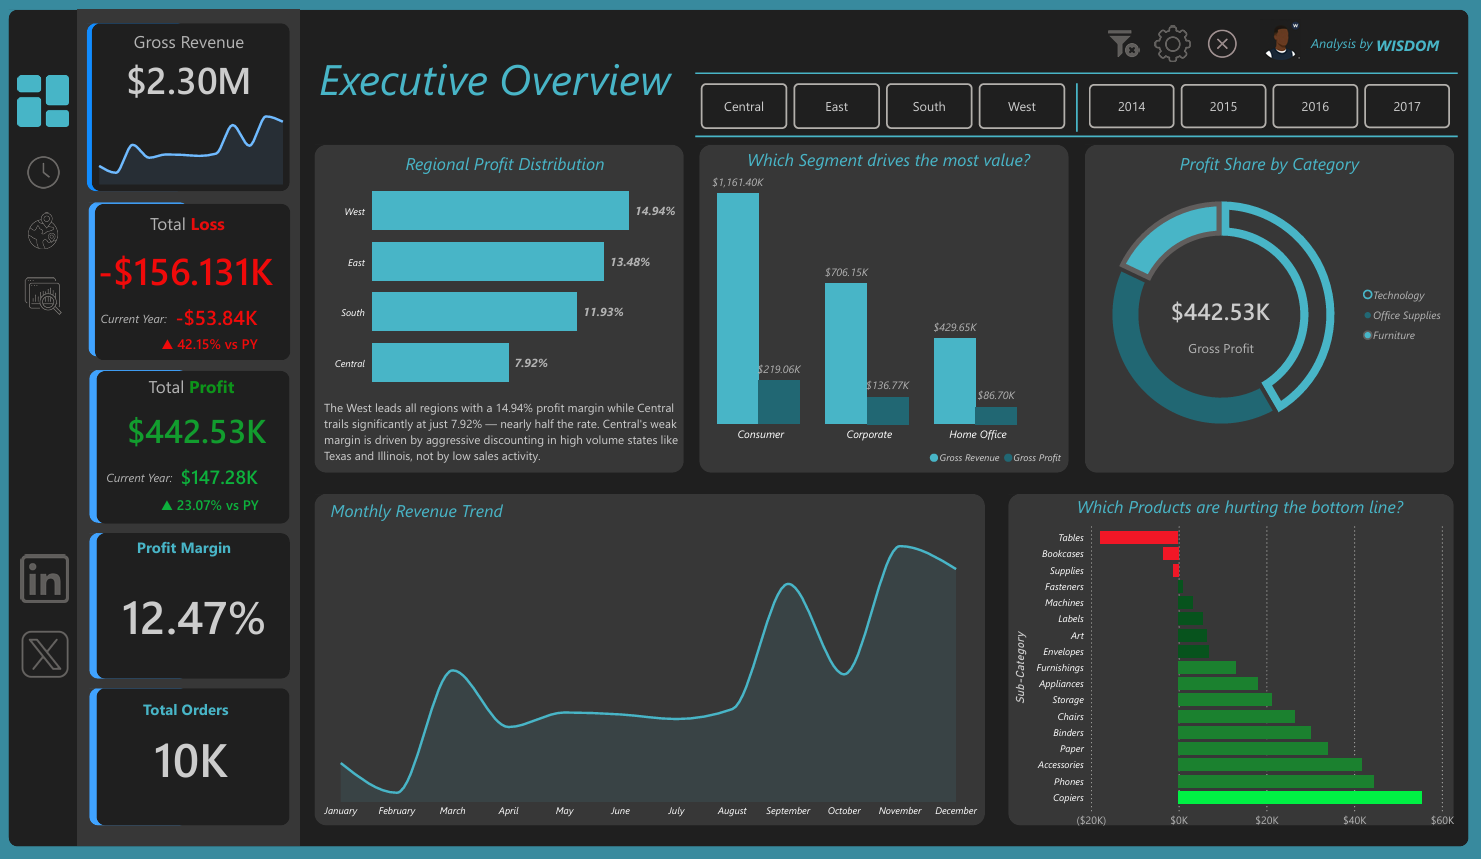

Layout of this report page (visuals, bound fields, positions):
{"tool":"powerbi","page":{"name":"Executive Overview","canvas":[1900,1080],"ordinal":0},"visuals":[{"type":"shape","box":[35.8,16.4,1828.2,1046.8],"z":0},{"type":"group","id":"g1","title":"Group 1","box":[134.3,32.8,253.6,210.3],"z":0,"group":"g5"},{"type":"shape","box":[134.3,32.8,123.9,209.8],"z":0,"group":"g1"},{"type":"textbox","box":[1661.6,41.8,96.3,62.6],"z":0,"group":"g4"},{"type":"shape","box":[135.7,257.3,125.1,192.8],"z":0,"group":"g6"},{"type":"cardVisual","fields":{"Data":["Dax.Total Loss(Negative Profit)"]},"box":[67.1,280.4,381.8,117.8],"z":0,"group":"g7"},{"type":"shape","box":[137.2,466.9,123.8,190.9],"z":0,"group":"g8"},{"type":"cardVisual","fields":{"Data":["Dax.Gross Profit"]},"box":[116.3,481.7,310.2,117.8],"z":0,"group":"g9"},{"type":"shape","box":[137.2,671.2,124,181.9],"z":0,"group":"g2"},{"type":"shape","box":[137.2,865.1,123.8,171.5],"z":0,"group":"g3"},{"type":"shape","box":[122.3,16.4,278.9,1046.8],"z":1000},{"type":"shape","box":[140.3,32.8,247.8,209.8],"z":1000,"group":"g1"},{"type":"textbox","box":[1739.8,41.8,96.3,62.6],"z":1000,"group":"g4"},{"type":"cardVisual","fields":{"Data":["Dax.Total Revenue"]},"box":[126.8,43.2,270,117.8],"z":1000,"group":"g5"},{"type":"shape","box":[143.2,259.4,244.5,195.4],"z":1000,"group":"g6"},{"type":"textbox","box":[168.5,262.5,183.5,53.7],"z":1000,"group":"g7"},{"type":"textbox","box":[173,468.3,183.5,53.7],"z":1000,"group":"g9"},{"type":"shape","box":[146.1,468.4,241.6,190.9],"z":1000,"group":"g8"},{"type":"shape","box":[145.8,671.3,242,181.9],"z":1000,"group":"g2"},{"type":"shape","box":[146.1,865.1,241.6,171.5],"z":1000,"group":"g3"},{"type":"textbox","box":[170.1,35.8,183.5,53.7],"z":2000,"group":"g5"},{"type":"cardVisual","fields":{"Data":["Yoys.Current Year Total Loss"]},"box":[207.3,368.4,179,59.7],"z":2000,"group":"g7"},{"type":"cardVisual","fields":{"Data":["Yoys.Current Year Profit"]},"box":[217.7,556.3,165.6,86.5],"z":2000,"group":"g9"},{"type":"shape","box":[419,621.8,839.6,414.6],"z":2000},{"type":"lineChart","fields":{"Y":["Dax.Gross Revenue"],"Category":["Superstore Sales Data.Order Date.Variation.Date Hierarchy.Month"]},"box":[135.7,123.8,256.5,116.3],"z":3000,"group":"g5"},{"type":"textbox","box":[146.2,386.3,117.8,37.3],"z":3000,"group":"g7"},{"type":"cardVisual","fields":{"Data":["Kpi Labels.Profit Display"]},"box":[180.4,599.6,216.3,68.6],"z":3000,"group":"g9"},{"type":"shape","box":[1288.4,621.8,557.7,414.6],"z":3000},{"type":"shape","box":[419.1,185,462.4,410.2],"z":4000},{"type":"cardVisual","fields":{"Data":["Kpi Labels.Loss Display"]},"box":[161.9,398.9,252,67.8],"z":4000,"group":"g7"},{"type":"textbox","box":[153.6,586.1,117.8,37.3],"z":4000,"group":"g9"},{"type":"lineChart","fields":{"Category":["Superstore Sales Data.Order Date.Variation.Date Hierarchy.Month"],"Y":["Dax.Gross Revenue"]},"box":[419,622.6,839.4,413.1],"z":5000},{"type":"shape","box":[900.9,185,462.4,410.2],"z":6000},{"type":"shape","box":[1384.2,185,462.4,410.2],"z":7000},{"type":"clusteredBarChart","fields":{"Y":["Sum(Superstore Sales Data.Profit)"],"Category":["Superstore Sales Data.Sub-Category"]},"box":[1289.4,647.6,562.1,401.3],"z":8000},{"type":"clusteredBarChart","fields":{"Y":["Dax.Profit Margin"],"Category":["Superstore Sales Data.Region"]},"box":[433.7,205.1,448.5,309.8],"z":9000},{"type":"clusteredColumnChart","fields":{"Category":["Superstore Sales Data.Segment"],"Y":["Dax.Gross Revenue","Dax.Gross Profit"]},"box":[863.6,204.3,499.7,390.8],"z":10000},{"type":"donutChart","fields":{"Category":["Superstore Sales Data.Category"],"Y":["Dax.Gross Profit"]},"box":[1373.5,137.2,470.6,520.8],"z":11000},{"type":"cardVisual","fields":{"Data":["Dax.Gross Profit"]},"box":[1452.8,314.7,201.4,150.6],"z":12000},{"type":"cardVisual","fields":{"Data":["Dax.Gross Profit"]},"box":[1454.3,363.9,201.4,150.6],"z":13000},{"type":"advancedSlicerVisual","fields":{"Values":["Superstore Sales Data.Order Date.Variation.Date Hierarchy.Year"]},"box":[1384.2,104.4,462.4,65.6],"z":14000},{"type":"group","id":"g2","title":"Group 2","box":[137.2,671.2,250.6,182],"z":15000},{"type":"group","id":"g3","title":"Group 3","box":[137.2,865.1,250.6,171.5],"z":16000},{"type":"cardVisual","fields":{"Data":["KPIs.Total Orders"]},"box":[126.9,879.3,274.4,144.6],"z":17000},{"type":"textbox","box":[156.6,671.2,196.9,53.7],"z":18000},{"type":"cardVisual","fields":{"Data":["Dax.Profit Margin"]},"box":[141.6,702.2,252.3,140.1],"z":19000},{"type":"textbox","box":[165.6,872.6,183.5,53.7],"z":20000},{"type":"textbox","box":[419.1,59.7,462.4,91],"z":21000},{"type":"textbox","box":[434,623.5,299.8,47.7],"z":22000},{"type":"image","box":[43.3,698,77.6,61.2],"z":23000},{"type":"image","box":[46.2,790.5,71.6,62.6],"z":24000},{"type":"group","id":"g4","title":"Group 1","box":[1661.6,41.8,174.5,62.6],"z":25000},{"type":"image","box":[1585.5,28.3,86.5,50.7],"z":26000},{"type":"group","id":"g5","title":"Group 4","box":[126.8,32.8,270,210.3],"z":27000},{"type":"group","id":"g6","title":"Group 6","box":[135.7,257.3,252.1,196.9],"z":28000},{"type":"group","id":"g7","title":"Group 5","box":[67.1,262.5,381.8,204.3],"z":29000},{"type":"group","id":"g8","title":"Group 8","box":[137.2,466.9,250.6,192.4],"z":30000},{"type":"group","id":"g9","title":"Group 7","box":[116.3,468.3,310.2,199.9],"z":31000},{"type":"advancedSlicerVisual","fields":{"Values":["Superstore Sales Data.Region"]},"box":[898.4,102.7,466.1,67.5],"z":32000},{"type":"image","box":[1409.5,38.8,44.7,38.8],"z":33000},{"type":"shape","box":[896.4,82,954.6,26.8],"z":34000},{"type":"image","box":[1469.2,35.8,50.7,46.2],"z":35000},{"type":"group","id":"g10","title":"Group 9","box":[1096.3,32.8,277.4,53.7],"z":36000},{"type":"image","box":[1534.8,25.4,41.8,67.1],"z":37000},{"type":"shape","box":[1358.7,107.7,29.5,60.5],"z":38000},{"type":"shape","box":[896.4,161.1,954.6,26.8],"z":39000},{"type":"textbox","box":[426.1,497.7,461.9,102.5],"z":40000},{"type":"textbox","box":[1473.7,187.9,281.9,47.7],"z":41000},{"type":"textbox","box":[950.1,184.4,376.2,48.7],"z":42000},{"type":"image","box":[47.2,82.6,64.9,94.4],"z":43000},{"type":"image","box":[59,194.7,41.3,48.7],"z":44000},{"type":"image","box":[51.6,270,54.6,45.7],"z":45000},{"type":"image","box":[56.1,339.3,47.2,70.8],"z":46000},{"type":"textbox","box":[1358.7,618.1,438.1,48.7],"z":47000},{"type":"textbox","box":[488.3,188.8,339.3,48.7],"z":48000}]}

Visuals, with their boxes on the page's 1900x1080 design canvas (x1, y1, x2, y2). These are canvas units, not pixel positions in the 1481x859 screenshot, which may show the page scaled, cropped or inside an application window:
shape: x1=36, y1=16, x2=1864, y2=1063
"Group 1" group: x1=134, y1=33, x2=388, y2=243
shape: x1=134, y1=33, x2=258, y2=243
textbox: x1=1662, y1=42, x2=1758, y2=104
shape: x1=136, y1=257, x2=261, y2=450
cardVisual - Dax.Total Loss(Negative Profit): x1=67, y1=280, x2=449, y2=398
shape: x1=137, y1=467, x2=261, y2=658
cardVisual - Dax.Gross Profit: x1=116, y1=482, x2=426, y2=600
shape: x1=137, y1=671, x2=261, y2=853
shape: x1=137, y1=865, x2=261, y2=1037
shape: x1=122, y1=16, x2=401, y2=1063
shape: x1=140, y1=33, x2=388, y2=243
textbox: x1=1740, y1=42, x2=1836, y2=104
cardVisual - Dax.Total Revenue: x1=127, y1=43, x2=397, y2=161
shape: x1=143, y1=259, x2=388, y2=455
textbox: x1=168, y1=262, x2=352, y2=316
textbox: x1=173, y1=468, x2=356, y2=522
shape: x1=146, y1=468, x2=388, y2=659
shape: x1=146, y1=671, x2=388, y2=853
shape: x1=146, y1=865, x2=388, y2=1037
textbox: x1=170, y1=36, x2=354, y2=90
cardVisual - Yoys.Current Year Total Loss: x1=207, y1=368, x2=386, y2=428
cardVisual - Yoys.Current Year Profit: x1=218, y1=556, x2=383, y2=643
shape: x1=419, y1=622, x2=1259, y2=1036
lineChart - Dax.Gross Revenue x Superstore Sales Data.Order Date.Variation.Date Hierarchy.Month: x1=136, y1=124, x2=392, y2=240
textbox: x1=146, y1=386, x2=264, y2=424
cardVisual - Kpi Labels.Profit Display: x1=180, y1=600, x2=397, y2=668
shape: x1=1288, y1=622, x2=1846, y2=1036
shape: x1=419, y1=185, x2=882, y2=595
cardVisual - Kpi Labels.Loss Display: x1=162, y1=399, x2=414, y2=467
textbox: x1=154, y1=586, x2=271, y2=623
lineChart - Superstore Sales Data.Order Date.Variation.Date Hierarchy.Month x Dax.Gross Revenue: x1=419, y1=623, x2=1258, y2=1036
shape: x1=901, y1=185, x2=1363, y2=595
shape: x1=1384, y1=185, x2=1847, y2=595
clusteredBarChart - Sum(Superstore Sales Data.Profit) x Superstore Sales Data.Sub-Category: x1=1289, y1=648, x2=1852, y2=1049
clusteredBarChart - Dax.Profit Margin x Superstore Sales Data.Region: x1=434, y1=205, x2=882, y2=515
clusteredColumnChart - Superstore Sales Data.Segment x Dax.Gross Revenue: x1=864, y1=204, x2=1363, y2=595
donutChart - Superstore Sales Data.Category x Dax.Gross Profit: x1=1374, y1=137, x2=1844, y2=658
cardVisual - Dax.Gross Profit: x1=1453, y1=315, x2=1654, y2=465
cardVisual - Dax.Gross Profit: x1=1454, y1=364, x2=1656, y2=514
advancedSlicerVisual - Superstore Sales Data.Order Date.Variation.Date Hierarchy.Year: x1=1384, y1=104, x2=1847, y2=170
"Group 2" group: x1=137, y1=671, x2=388, y2=853
"Group 3" group: x1=137, y1=865, x2=388, y2=1037
cardVisual - KPIs.Total Orders: x1=127, y1=879, x2=401, y2=1024
textbox: x1=157, y1=671, x2=354, y2=725
cardVisual - Dax.Profit Margin: x1=142, y1=702, x2=394, y2=842
textbox: x1=166, y1=873, x2=349, y2=926
textbox: x1=419, y1=60, x2=882, y2=151
textbox: x1=434, y1=624, x2=734, y2=671
image: x1=43, y1=698, x2=121, y2=759
image: x1=46, y1=790, x2=118, y2=853
"Group 1" group: x1=1662, y1=42, x2=1836, y2=104
image: x1=1586, y1=28, x2=1672, y2=79
"Group 4" group: x1=127, y1=33, x2=397, y2=243
"Group 6" group: x1=136, y1=257, x2=388, y2=454
"Group 5" group: x1=67, y1=262, x2=449, y2=467
"Group 8" group: x1=137, y1=467, x2=388, y2=659
"Group 7" group: x1=116, y1=468, x2=426, y2=668
advancedSlicerVisual - Superstore Sales Data.Region: x1=898, y1=103, x2=1364, y2=170
image: x1=1410, y1=39, x2=1454, y2=78
shape: x1=896, y1=82, x2=1851, y2=109
image: x1=1469, y1=36, x2=1520, y2=82
"Group 9" group: x1=1096, y1=33, x2=1374, y2=86
image: x1=1535, y1=25, x2=1577, y2=92
shape: x1=1359, y1=108, x2=1388, y2=168
shape: x1=896, y1=161, x2=1851, y2=188
textbox: x1=426, y1=498, x2=888, y2=600
textbox: x1=1474, y1=188, x2=1756, y2=236
textbox: x1=950, y1=184, x2=1326, y2=233
image: x1=47, y1=83, x2=112, y2=177
image: x1=59, y1=195, x2=100, y2=243
image: x1=52, y1=270, x2=106, y2=316
image: x1=56, y1=339, x2=103, y2=410
textbox: x1=1359, y1=618, x2=1797, y2=667
textbox: x1=488, y1=189, x2=828, y2=238
